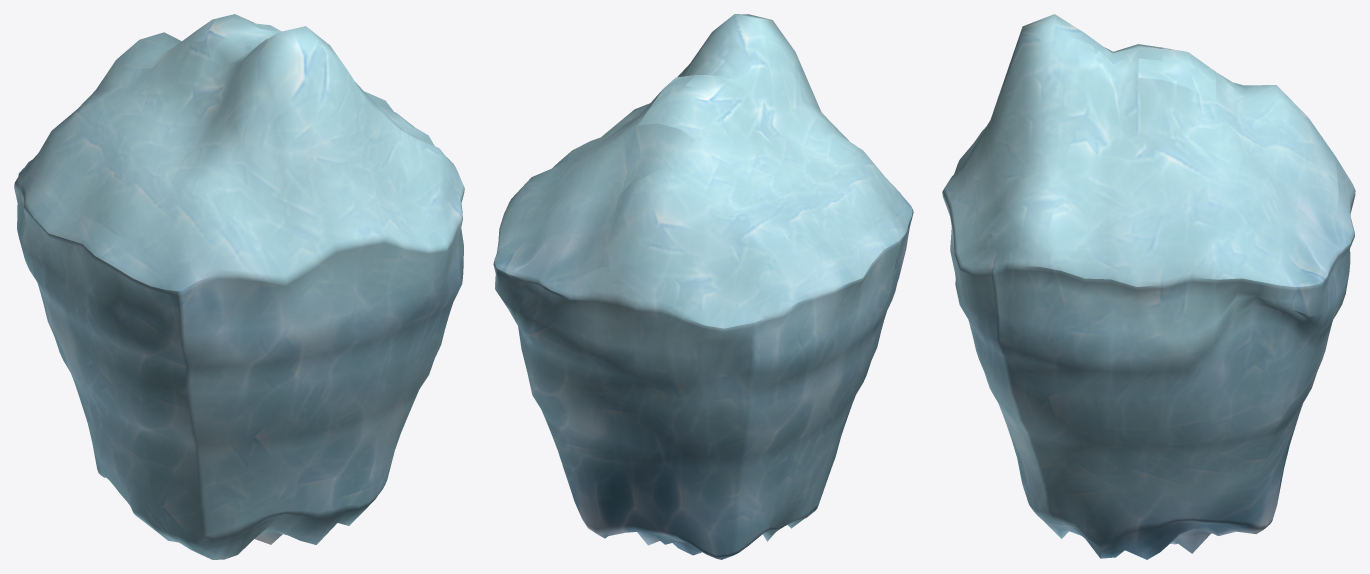
The model's file is Iceberg C1.fbx.
3 views of the same model, side by side, from view 1: azimuth 30°, elevation 25°; view 2: azimuth 150°, elevation 25°; view 3: azimuth 270°, elevation 25° (orthographic). The views are drawn at different scales.
Visible parts, largest first — view 1: Iceberg_C1; view 2: Iceberg_C1; view 3: Iceberg_C1.
Part boxes in pixels (x1,y1,x2,y2): Iceberg_C1: (14, 14, 464, 559); Iceberg_C1: (493, 14, 913, 559); Iceberg_C1: (942, 14, 1355, 559).
Bounding box in the file's own units: 33.19 × 46.89 × 33.94.
